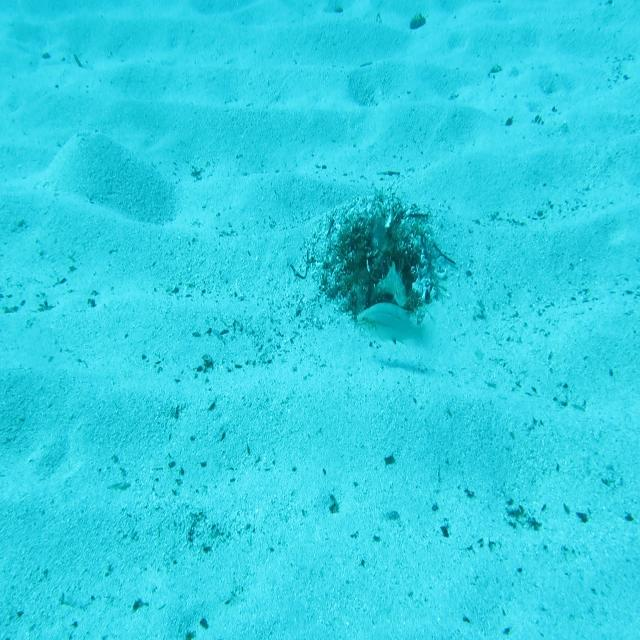DAN_CIRC: (368, 258, 412, 307)
female: (355, 301, 436, 354)
nest: (320, 176, 454, 319)
